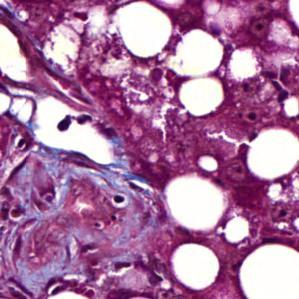steatosis: (106, 3, 170, 58), (165, 177, 229, 230), (244, 126, 298, 180), (179, 81, 228, 116)
